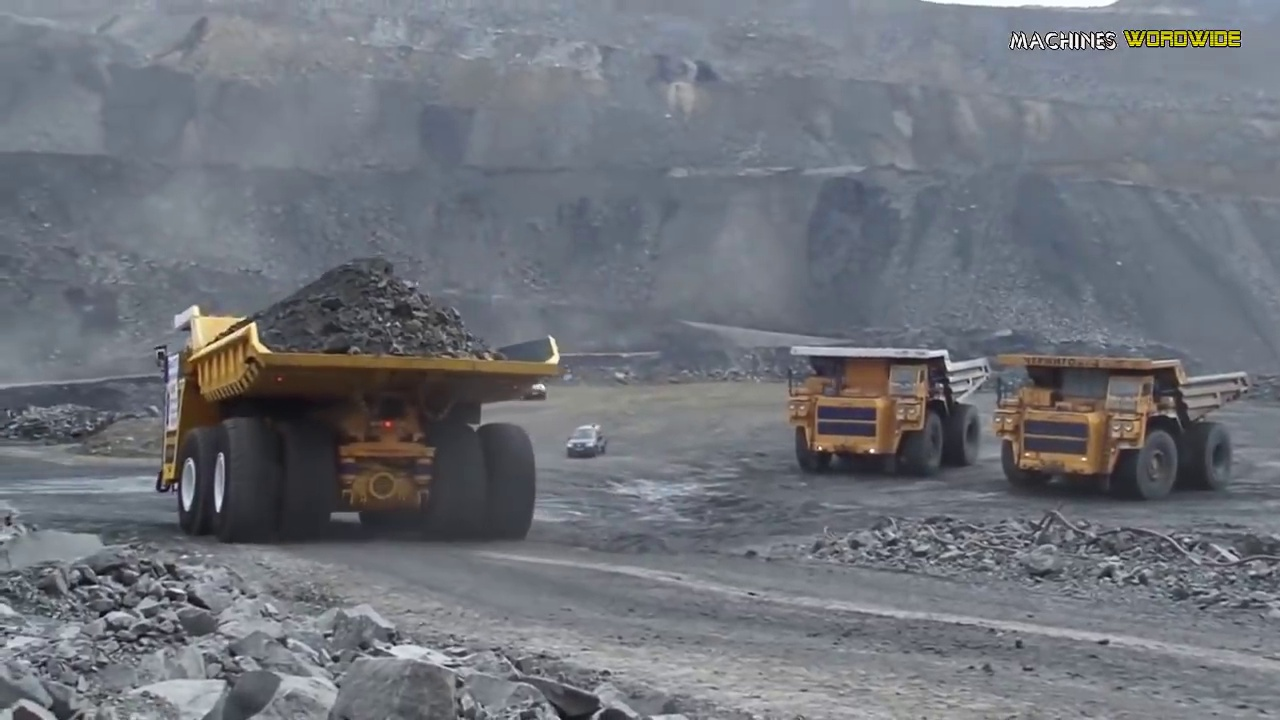car: (569, 417, 607, 453)
dumper: (157, 298, 560, 539), (998, 346, 1255, 494), (788, 338, 989, 469)
